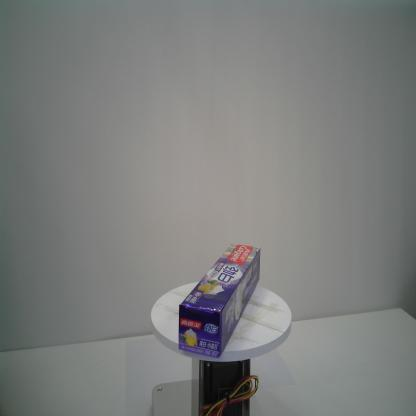Personal Hygiene: (178, 243, 261, 357)
